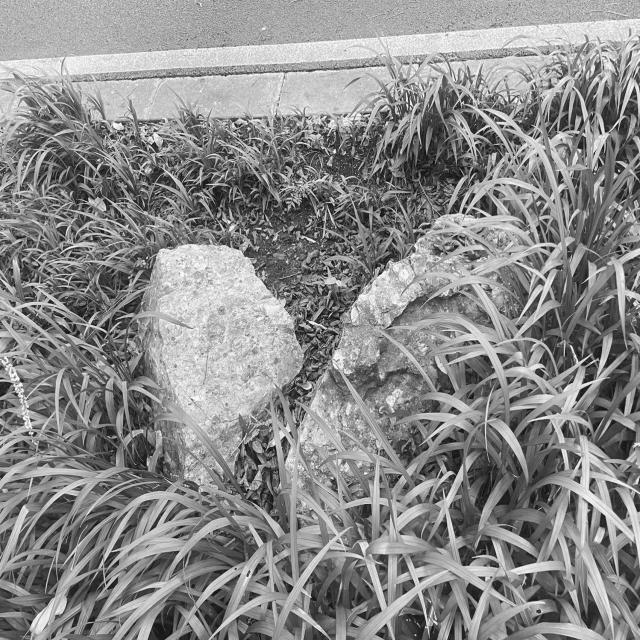Stone: (288, 216, 508, 481), (141, 244, 304, 466)
